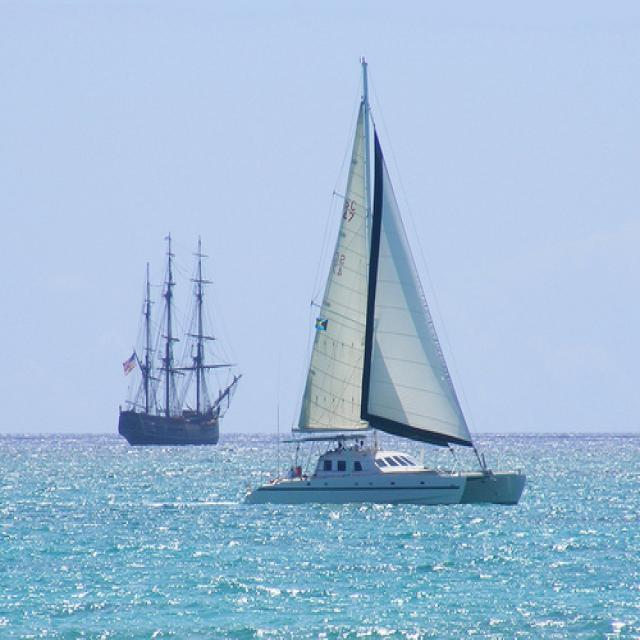Ship: (247, 65, 533, 508), (118, 234, 233, 444)
